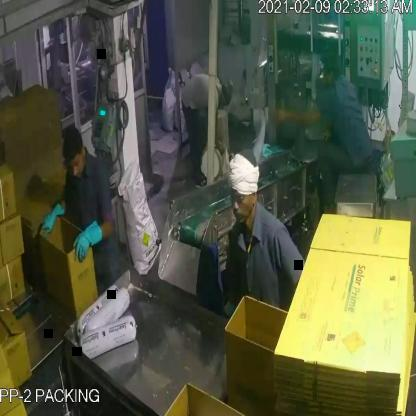glove: (72, 214, 104, 269), (35, 191, 67, 241)
no_glove: (259, 100, 326, 138)
